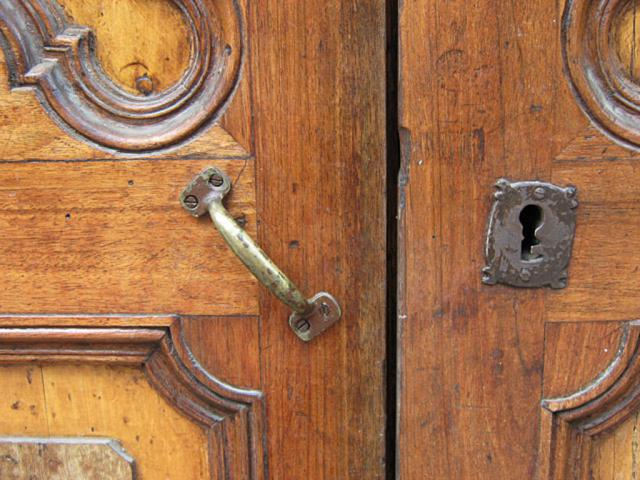Door-handle: (178, 166, 342, 344)
